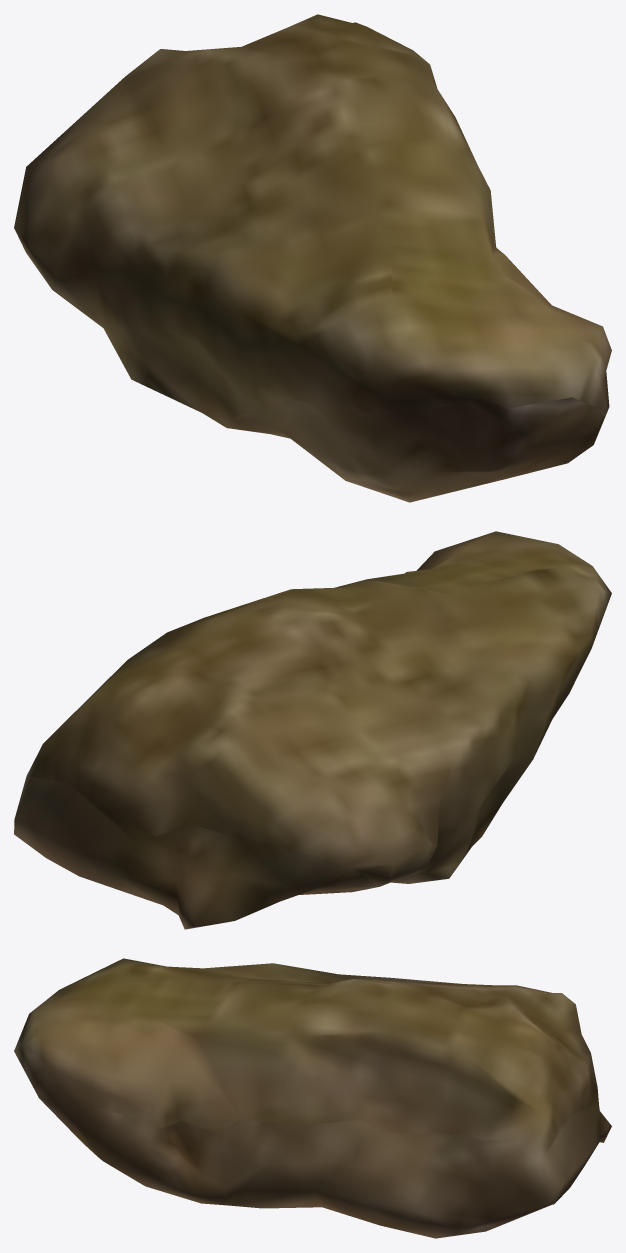
The picture shows the model from 3 angles, top to bottom: view 1: azimuth 30°, elevation 25°; view 2: azimuth 150°, elevation 25°; view 3: azimuth 270°, elevation 25°; orthographic projection. The views are drawn at different scales.
Visible parts, largest first — view 1: rock_moss_set_01__e_lod2; view 2: rock_moss_set_01__e_lod2; view 3: rock_moss_set_01__e_lod2.
Boxes of the visible parts, x1,y1,x2,y2 form: rock_moss_set_01__e_lod2: [14, 14, 611, 502]; rock_moss_set_01__e_lod2: [14, 531, 611, 929]; rock_moss_set_01__e_lod2: [14, 958, 611, 1238].
Bounding box in the file's own units: 1.81 × 1.2 × 2.99.
1 material, 1 textured.
